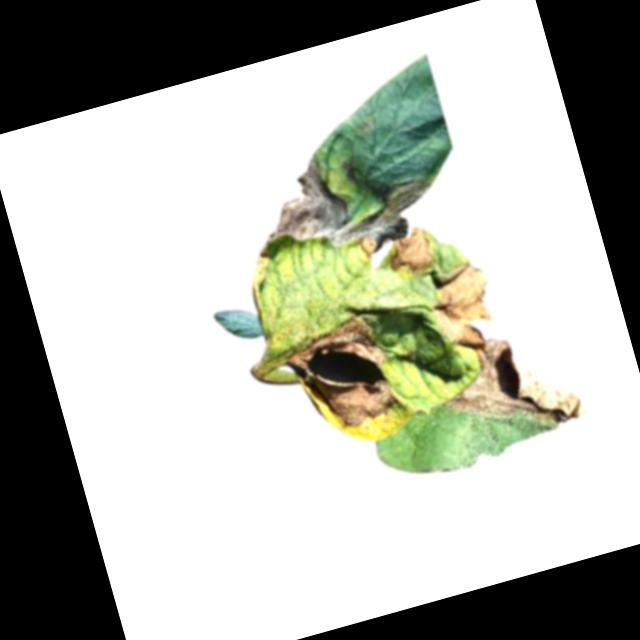Late_blight: (245, 125, 446, 279), (425, 318, 589, 458), (281, 311, 404, 439), (416, 256, 502, 352), (384, 223, 436, 280)
